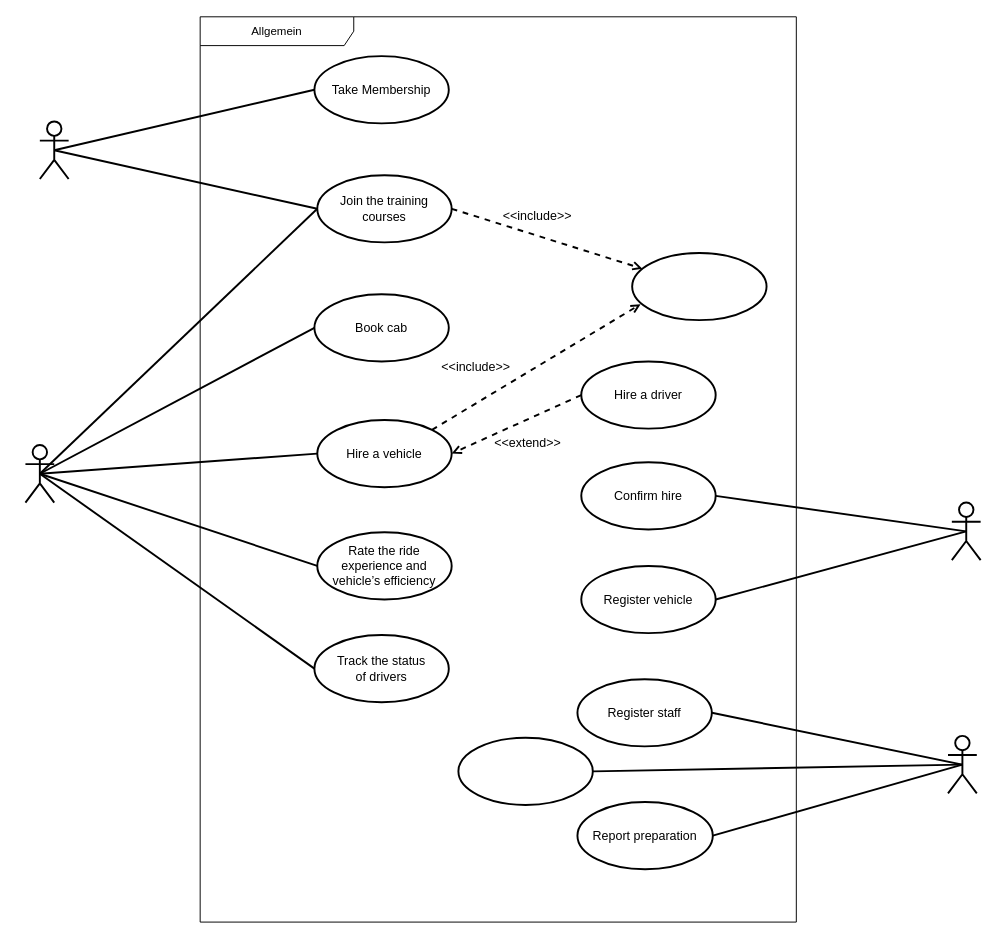
The diagram is 999 pixels wide and 939 high, and some of its shapes have lost their labels. The shapes that lost their labels are listed below. From the top down, each one's centre as x and y in pixels, then its label:
the point at 53,150: Customer
the point at 699,286: Payment
the point at 39,473: Member
the point at 965,531: Driver
the point at 525,770: Announcement
the point at 962,764: Admin
